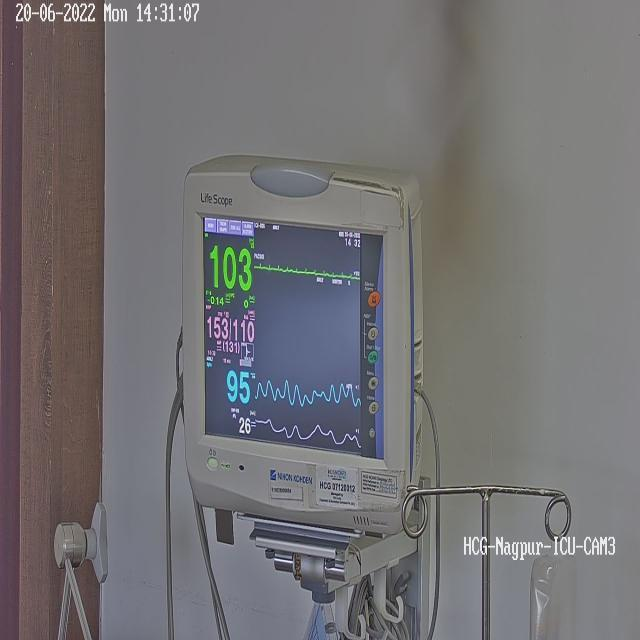Monitor: (180, 152, 422, 640)
Saline Stand: (401, 463, 591, 640)
